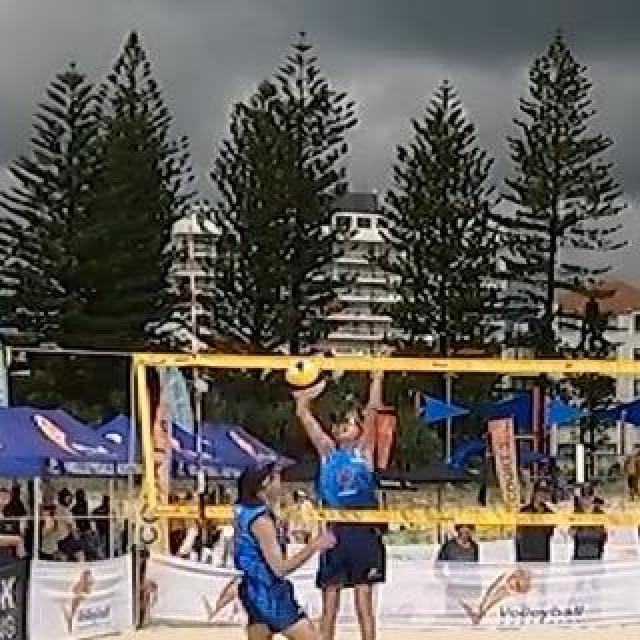volleyball: (285, 359, 319, 391)
